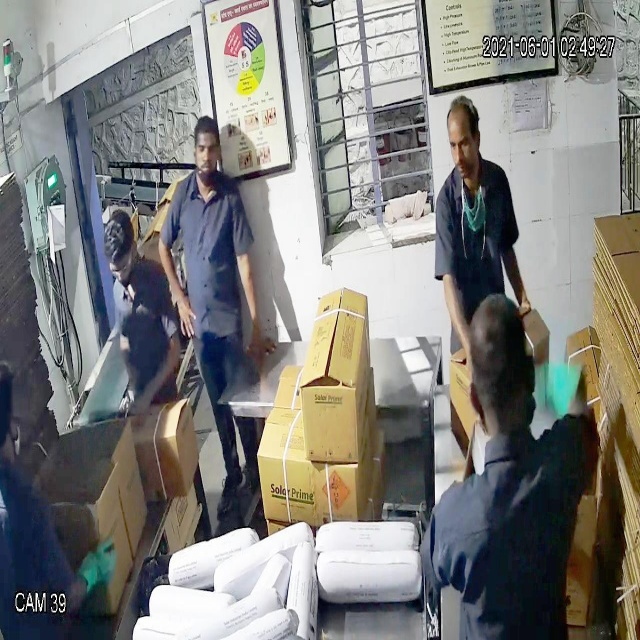Gafas: (107, 247, 138, 284)
Sin_gafas: (446, 126, 480, 161), (187, 139, 226, 169)
